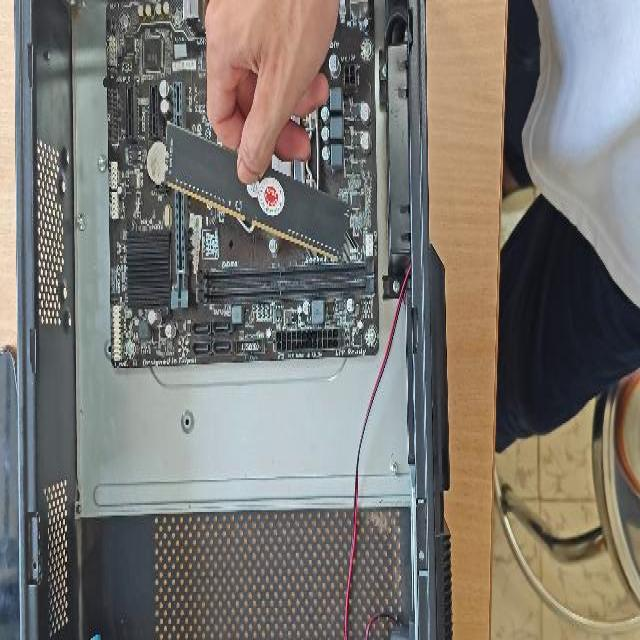Mainboard: (106, 2, 382, 364)
RAM: (162, 118, 350, 266)
